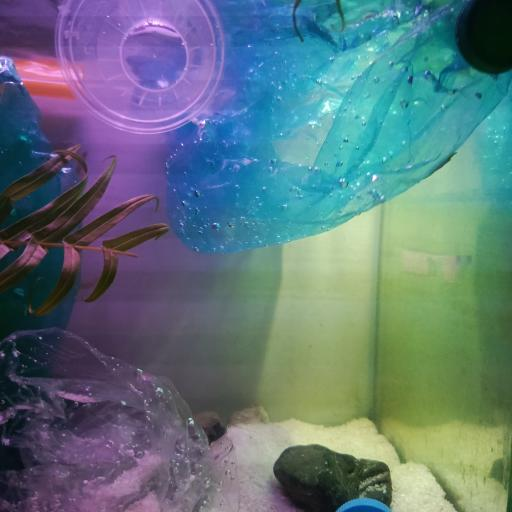bottle_cap: (453, 0, 512, 75), (338, 498, 388, 512)
plastic_bag: (126, 0, 512, 260), (0, 326, 239, 512), (0, 50, 81, 392)
plastic_cup: (56, 0, 224, 136)
plastic_straw: (20, 78, 78, 102)
